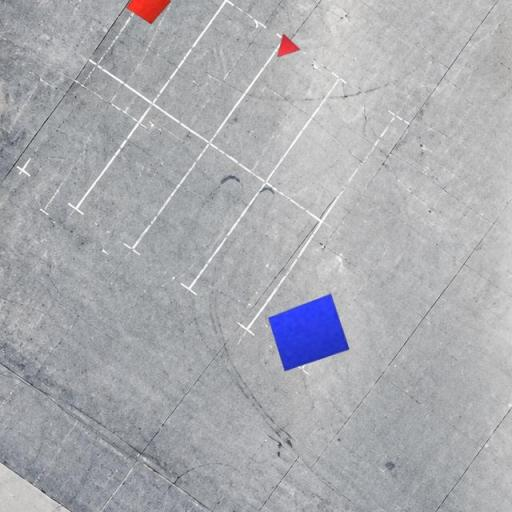BLUE_SQUARE: (268, 293, 350, 372)
RED_SQUARE: (126, 0, 172, 25)
